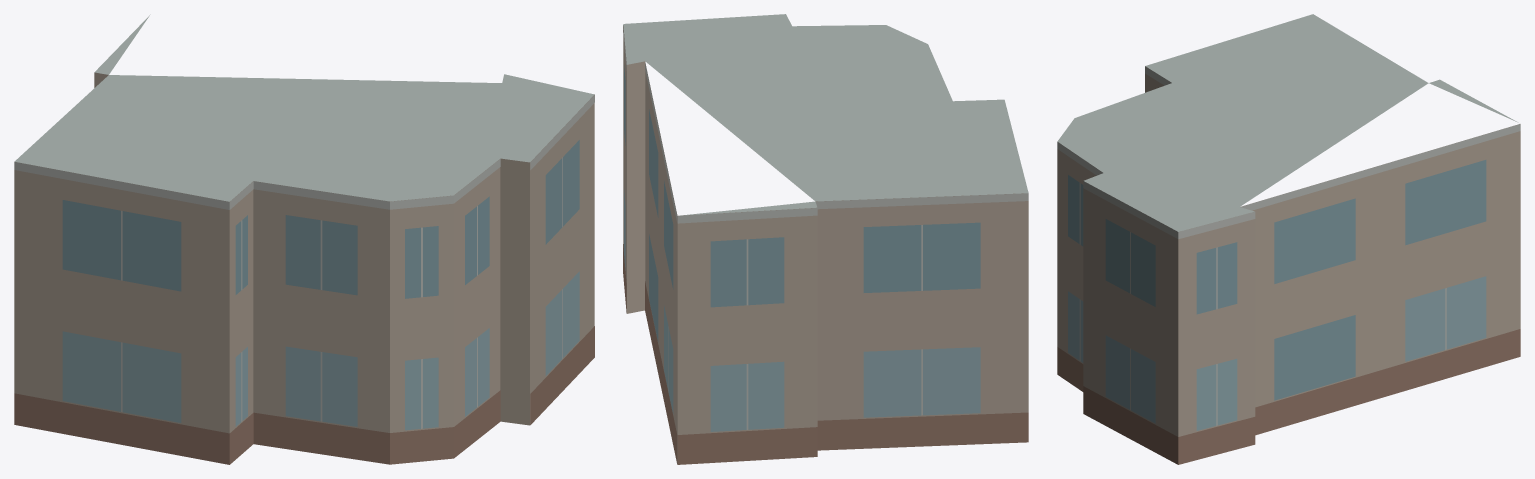
Rendered from survey-upis-32766140.glb.
3 renders of one model, left to right at view 1: azimuth 30°, elevation 25°; view 2: azimuth 150°, elevation 25°; view 3: azimuth 270°, elevation 25°, orthographic. The views are drawn at different scales.
Visible parts, largest first — view 1: survey-upis-32766140.tmp; view 2: survey-upis-32766140.tmp; view 3: survey-upis-32766140.tmp.
Boxes of the visible parts, left/top/right/bottom form: survey-upis-32766140.tmp: left=14, top=14, right=594, bottom=464; survey-upis-32766140.tmp: left=623, top=14, right=1028, bottom=464; survey-upis-32766140.tmp: left=1057, top=14, right=1520, bottom=464.
Bounding box in the file's own units: 15.56 × 7.75 × 13.98.
